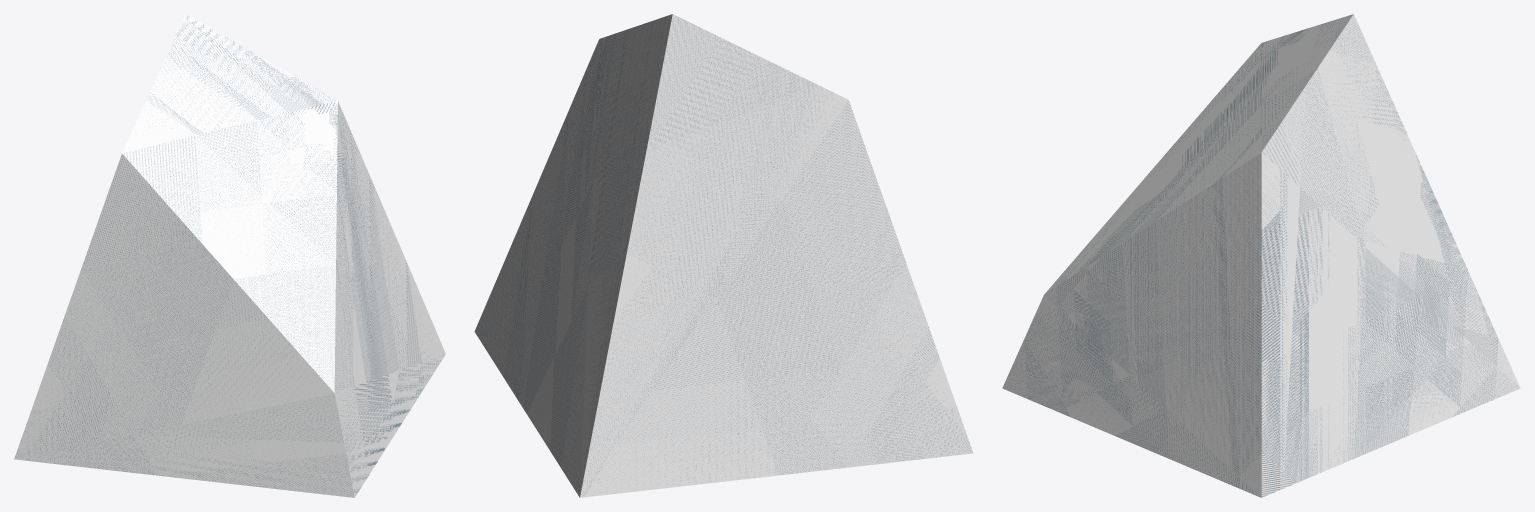
3 views of the same model, side by side, from view 1: azimuth 30°, elevation 25°; view 2: azimuth 150°, elevation 25°; view 3: azimuth 270°, elevation 25° (orthographic). The views are drawn at different scales.
Parts seen in each view (by area): view 1: Model; view 2: Model; view 3: Model.
Part boxes in pixels (left/top/right/bottom): Model: left=14, top=14, right=445, bottom=497; Model: left=474, top=14, right=973, bottom=497; Model: left=1002, top=14, right=1520, bottom=497.
Bounding box in the file's own units: 5.66 × 4.51 × 5.66.
